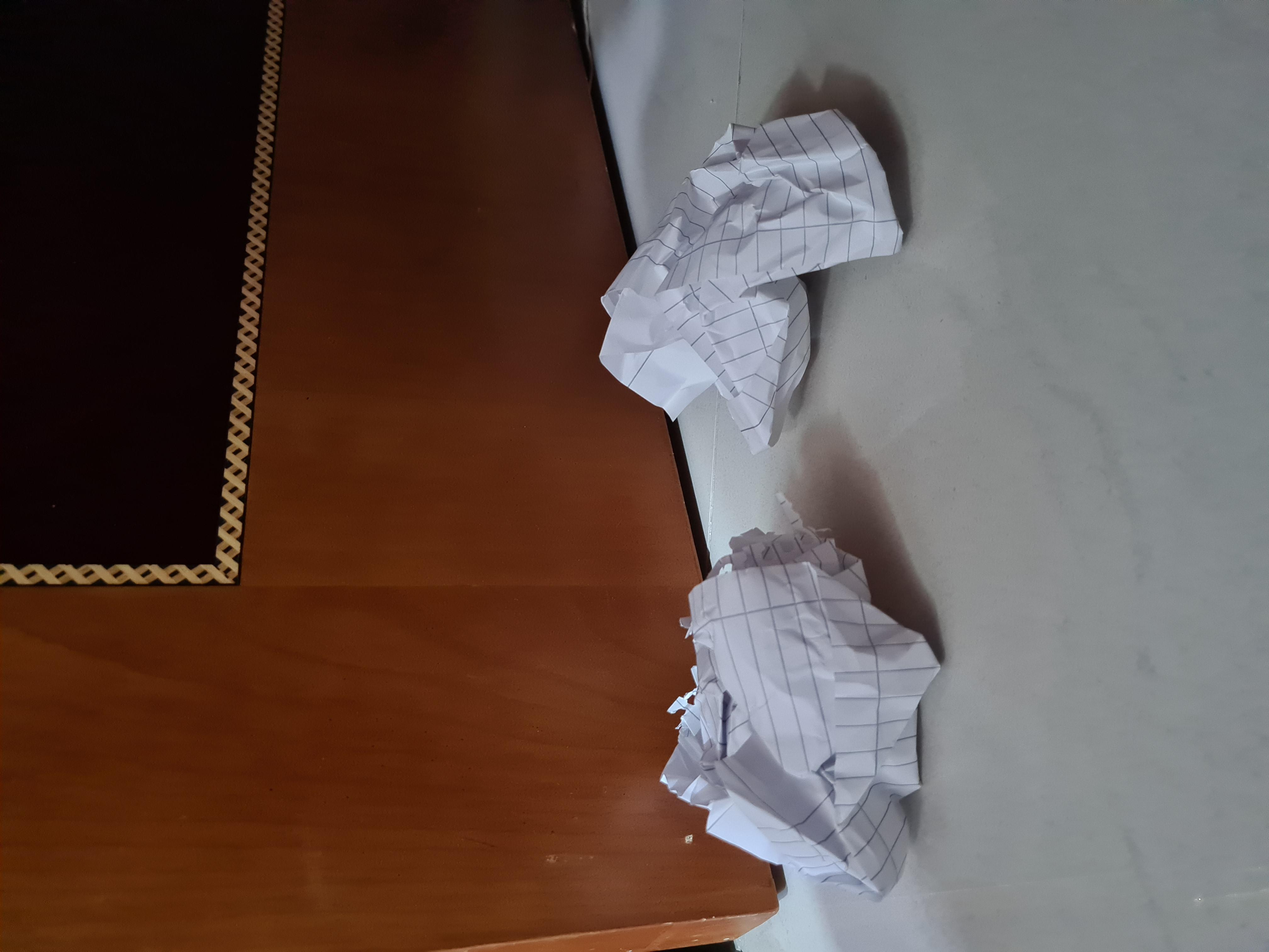paper: (686, 449, 1125, 688), (81, 492, 551, 700)
